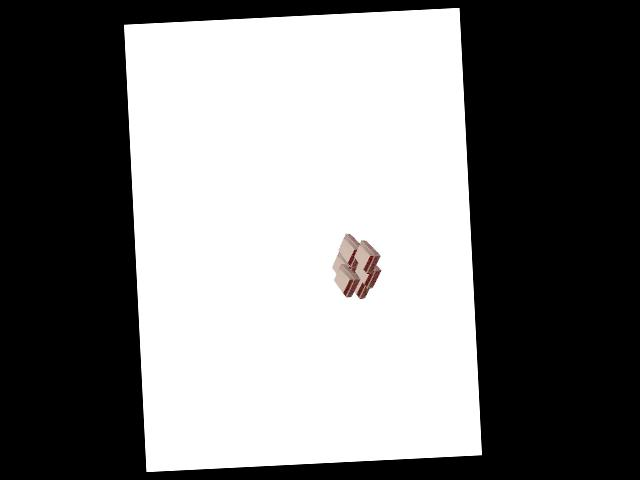chocolate: (328, 233, 380, 302)
